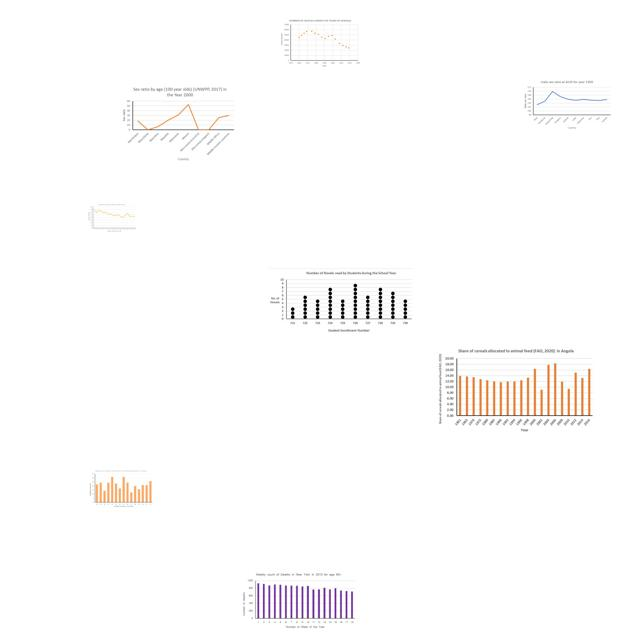Graph: (437, 346, 596, 435), (269, 268, 413, 334), (119, 84, 235, 161), (241, 572, 356, 630), (521, 78, 613, 132), (279, 18, 362, 69), (88, 469, 154, 509), (87, 203, 137, 233)
